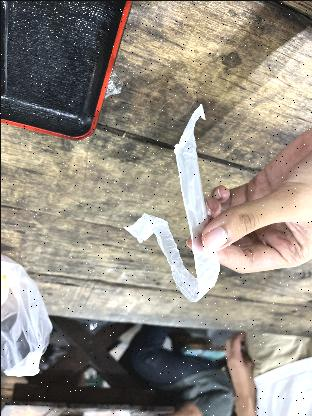Others: (122, 101, 222, 312), (0, 243, 56, 379)
